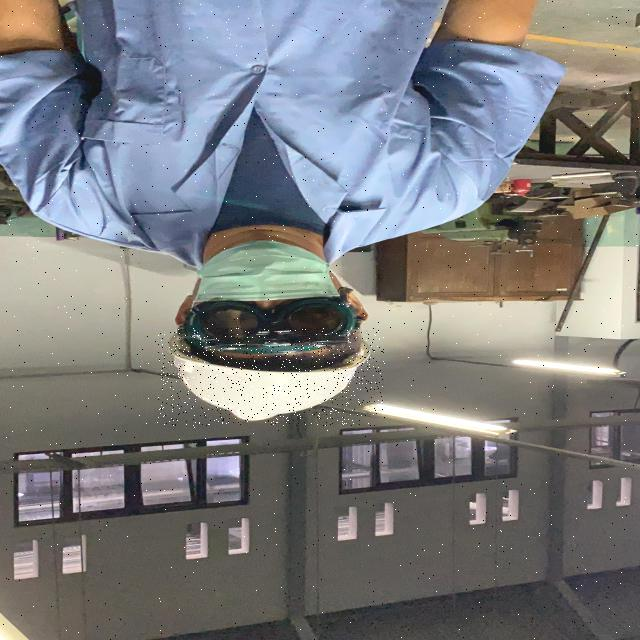Helmet: (158, 328, 384, 426)
